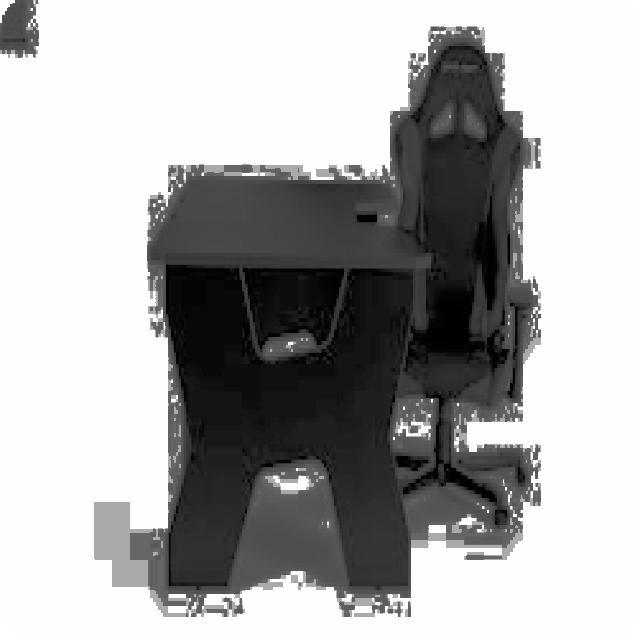book: (388, 38, 530, 529)
table: (148, 173, 431, 590)
